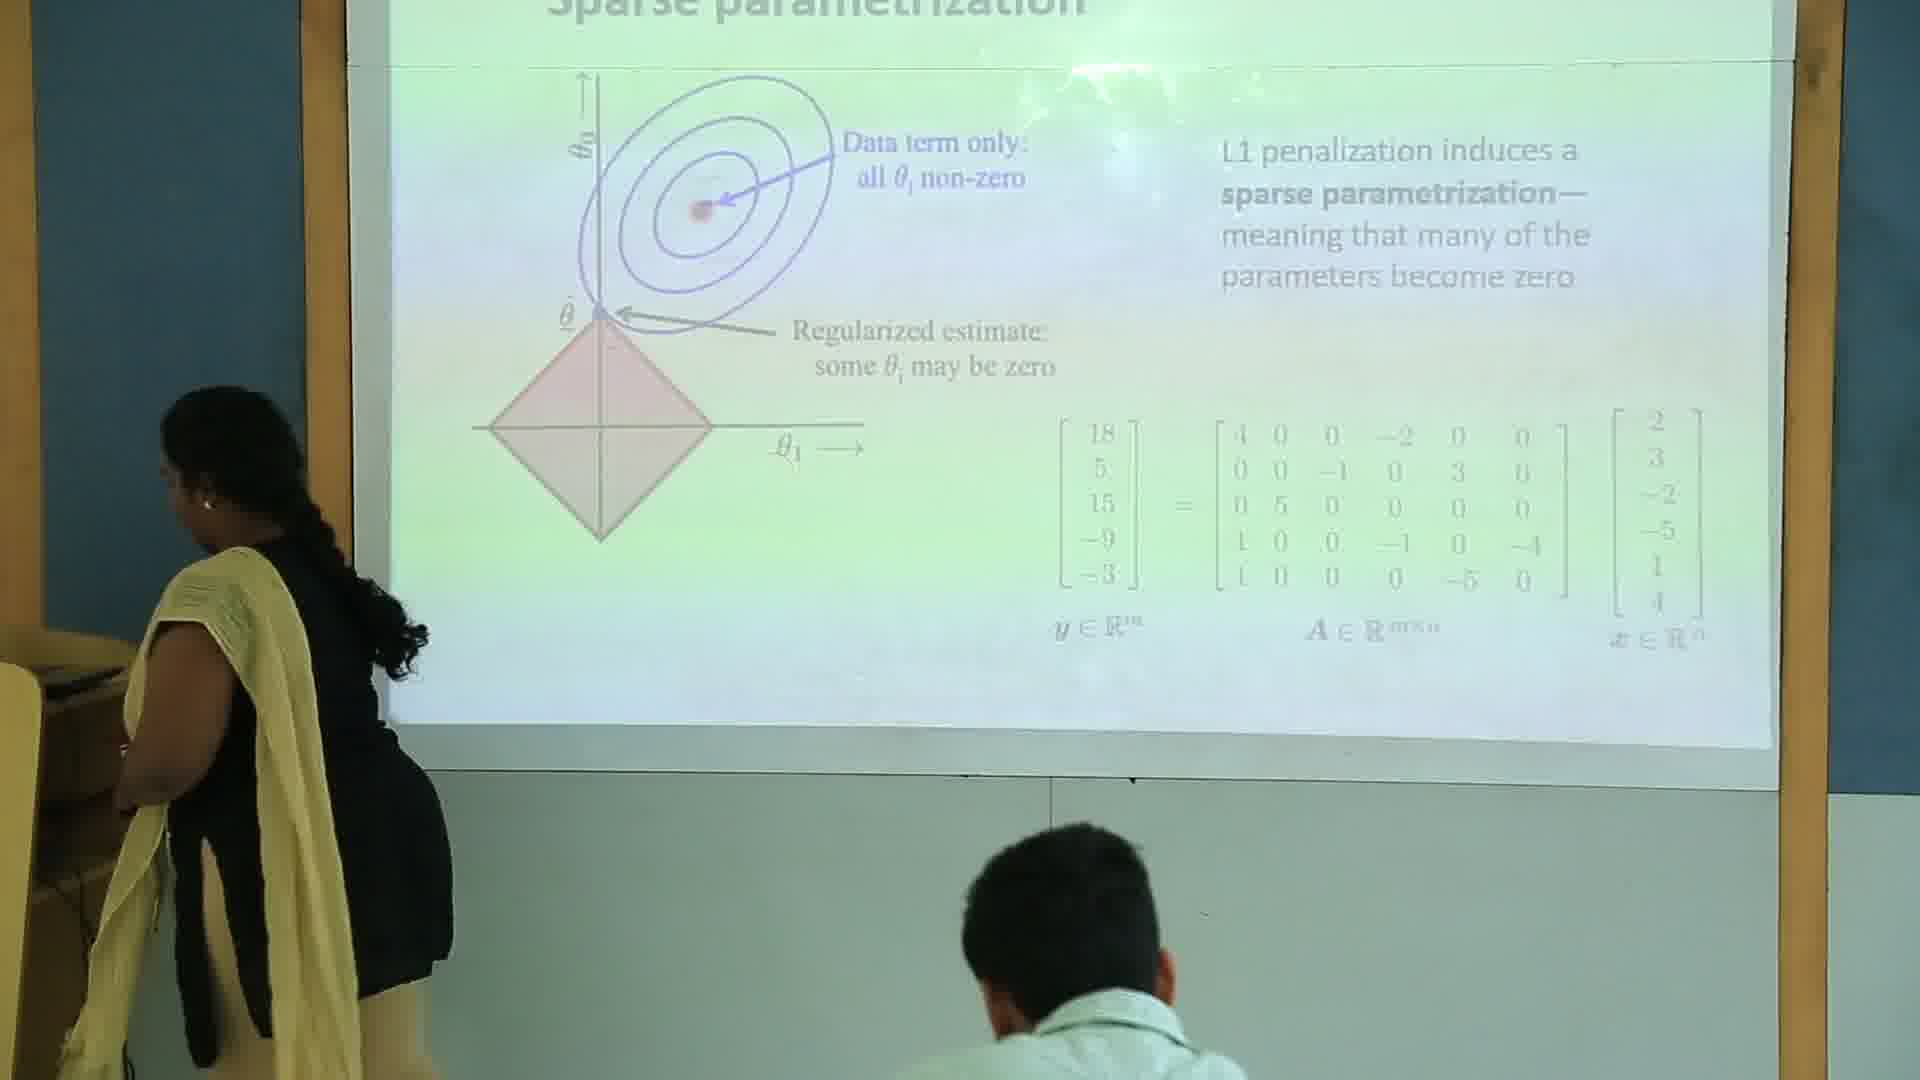eq: (1042, 407, 1725, 659)
fig: (456, 61, 1055, 550)
